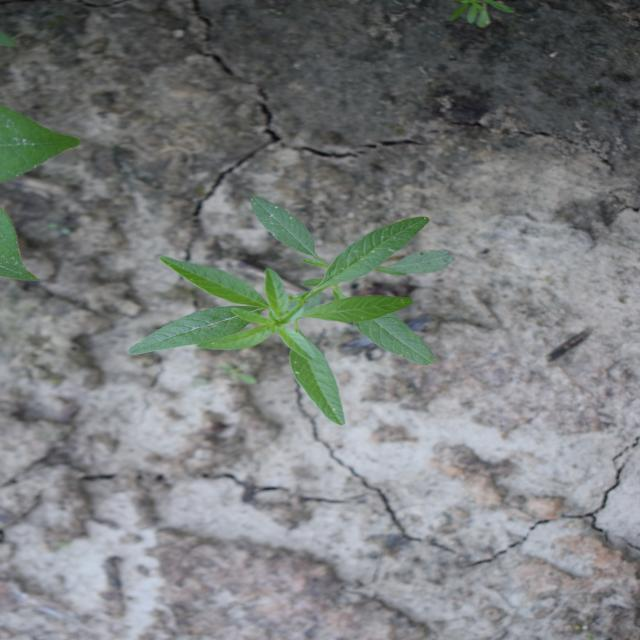Waterhemp: (124, 195, 457, 427)
